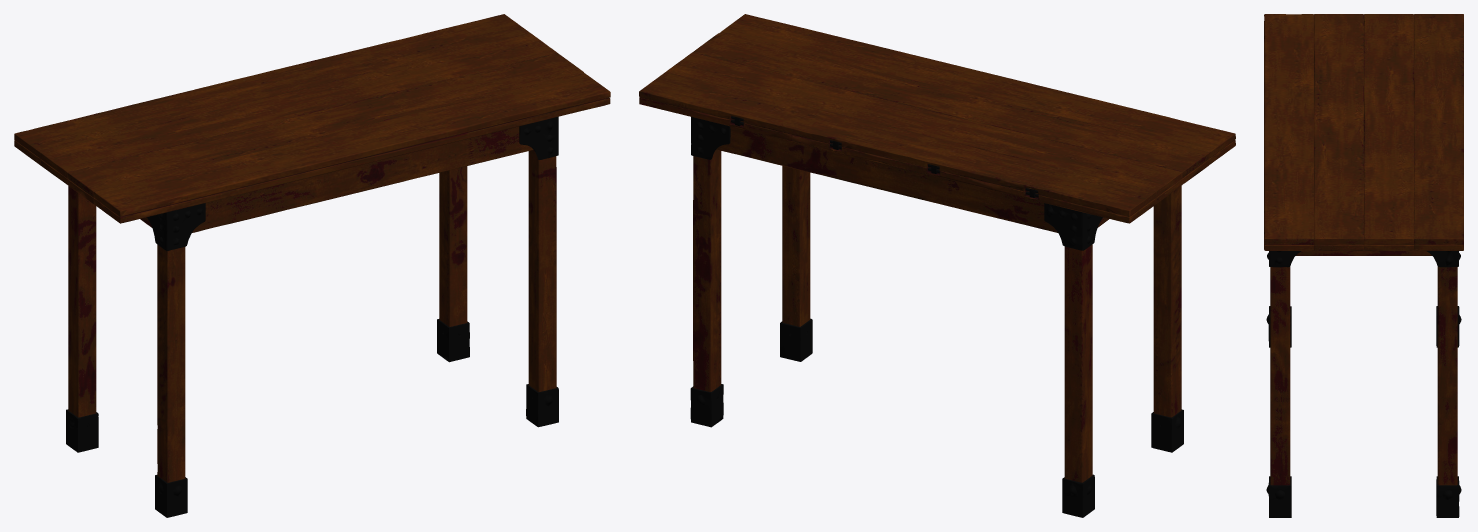
Rendered from TADN9153.obj.
3 views of the same model, side by side, from view 1: azimuth 30°, elevation 25°; view 2: azimuth 150°, elevation 25°; view 3: azimuth 270°, elevation 25° (orthographic). The views are drawn at different scales.
Visible parts, largest first — view 1: not_clear_obj_1_v6, not_clear_obj_0_v6; view 2: not_clear_obj_1_v6, not_clear_obj_0_v6; view 3: not_clear_obj_1_v6, not_clear_obj_0_v6.
Boxes of the visible parts, left/top/right/bottom form: not_clear_obj_1_v6: left=14, top=14, right=610, bottom=482; not_clear_obj_0_v6: left=66, top=116, right=558, bottom=517; not_clear_obj_1_v6: left=639, top=14, right=1235, bottom=482; not_clear_obj_0_v6: left=690, top=116, right=1183, bottom=517; not_clear_obj_1_v6: left=1264, top=14, right=1463, bottom=485; not_clear_obj_0_v6: left=1266, top=251, right=1461, bottom=517.
Size of what is drawn, in the model's own units: 122 by 76.2 by 45.72.
